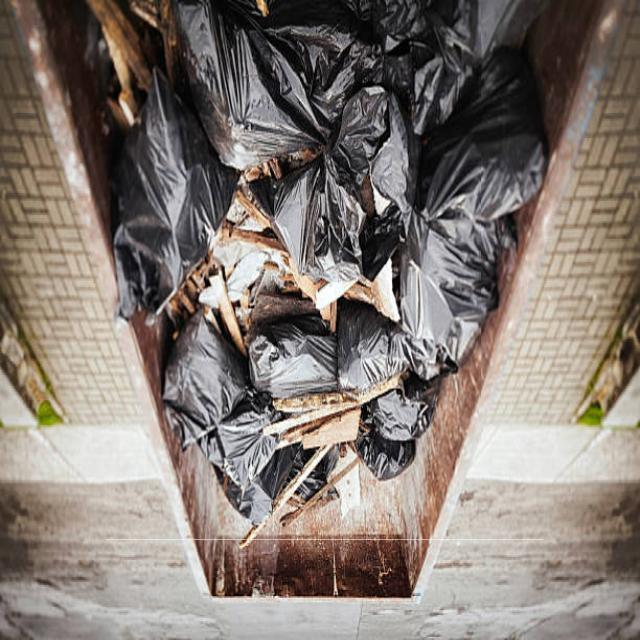Trashbag: (112, 108, 237, 325), (391, 199, 503, 383), (432, 67, 560, 227), (255, 158, 365, 302), (152, 304, 257, 443), (287, 3, 444, 93), (197, 10, 296, 146), (324, 292, 439, 396), (337, 89, 418, 208), (251, 320, 338, 408), (211, 404, 285, 477), (372, 386, 438, 441), (354, 432, 417, 486), (223, 471, 276, 524)
